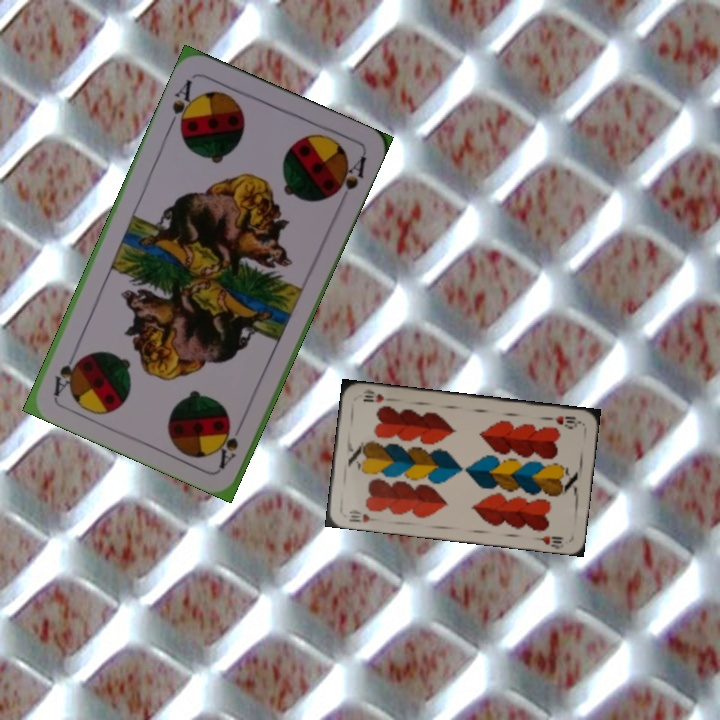H10: (345, 505, 381, 525), (542, 412, 583, 429)
SA: (165, 75, 199, 134), (214, 415, 247, 471)
